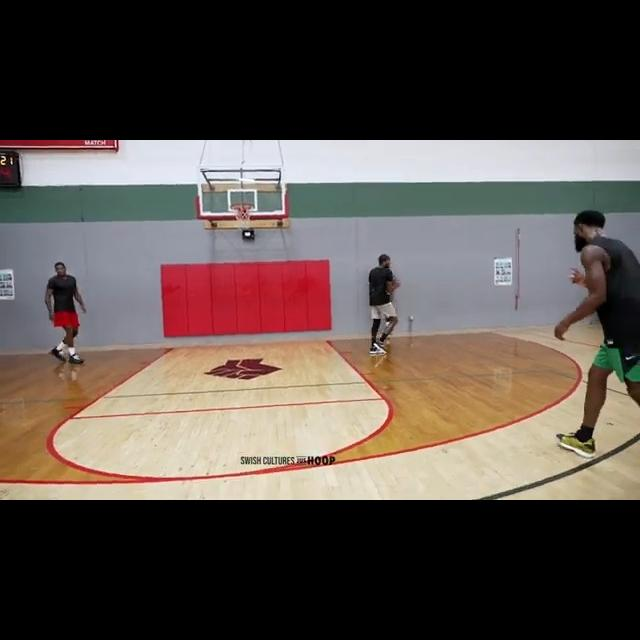hoop: (233, 203, 255, 229)
person: (551, 211, 640, 462), (46, 262, 91, 367), (362, 251, 403, 359)
